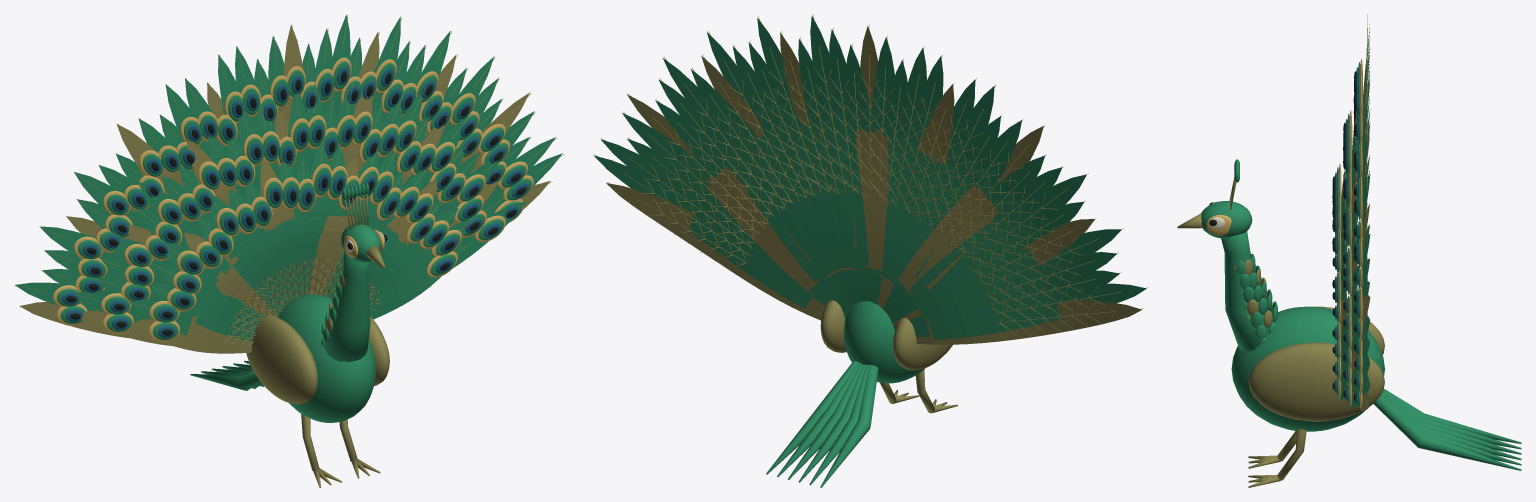
Rendered from peacock.glb.
3 views of the same model, side by side, from view 1: azimuth 30°, elevation 25°; view 2: azimuth 150°, elevation 25°; view 3: azimuth 270°, elevation 25° (orthographic). The views are drawn at different scales.
Visible parts, largest first — view 1: body.001, wing_L, neck, fan_feather.076, fan_feather.086, fan_feather.083, fan_feather.098, fan_feather.089, fan_feather.074, fan_feather.079, fan_feather.080, fan_feather.095 (+31 smaller); view 2: fan_feather.029, fan_feather.007, fan_feather.004, fan_feather.026, fan_feather.001, fan_feather.023, fan_feather.010, fan_feather.032, fan_feather.020, fan_feather.013, fan_feather.035, fan_feather.038 (+38 smaller); view 3: wing_R, body.001, neck, train.005, head.001, train.002, train.004, train.001, train, train.003, leg.001.
Part boxes in pixels (<box>): body.001: <box>278,294,376,422</box>; wing_L: <box>246,315,317,404</box>; neck: <box>324,251,370,362</box>; fan_feather.076: <box>150,284,263,341</box>; fan_feather.086: <box>288,160,321,299</box>; fan_feather.083: <box>246,182,292,309</box>; fan_feather.098: <box>369,243,467,319</box>; fan_feather.089: <box>308,156,358,295</box>; fan_feather.074: <box>131,316,252,353</box>; fan_feather.079: <box>184,232,276,315</box>; fan_feather.080: <box>198,217,279,314</box>; fan_feather.095: <box>368,200,441,293</box>; fan_feather.029: <box>707,32,843,273</box>; fan_feather.007: <box>909,174,1086,308</box>; fan_feather.004: <box>921,229,1121,325</box>; fan_feather.026: <box>757,18,856,268</box>; fan_feather.001: <box>927,283,1146,339</box>; fan_feather.023: <box>810,15,869,266</box>; fan_feather.010: <box>898,126,1043,295</box>; fan_feather.032: <box>663,58,829,281</box>; fan_feather.020: <box>853,25,888,270</box>; fan_feather.013: <box>885,86,994,286</box>; fan_feather.035: <box>627,94,820,291</box>; fan_feather.038: <box>601,139,813,303</box>; wing_R: <box>1248,342,1384,421</box>; body.001: <box>1231,306,1384,431</box>; neck: <box>1221,231,1272,351</box>; train.005: <box>1373,395,1521,470</box>; head.001: <box>1201,201,1252,238</box>; train.002: <box>1382,391,1521,454</box>; train.004: <box>1381,393,1521,465</box>; train.001: <box>1383,390,1521,449</box>; train: <box>1383,389,1521,443</box>; train.003: <box>1381,392,1521,459</box>; leg.001: <box>1277,429,1306,480</box>.
Size of the model in its own units: 2.3 by 1.65 by 1.21.
